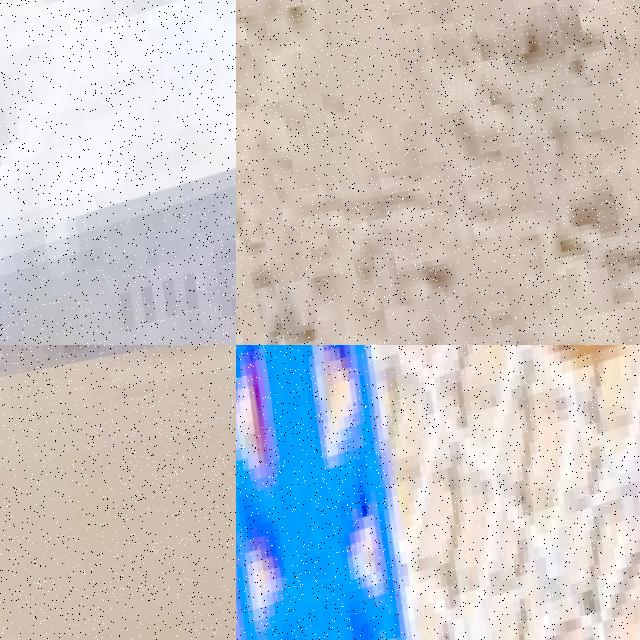drone: (236, 345, 640, 640), (0, 0, 236, 345)
